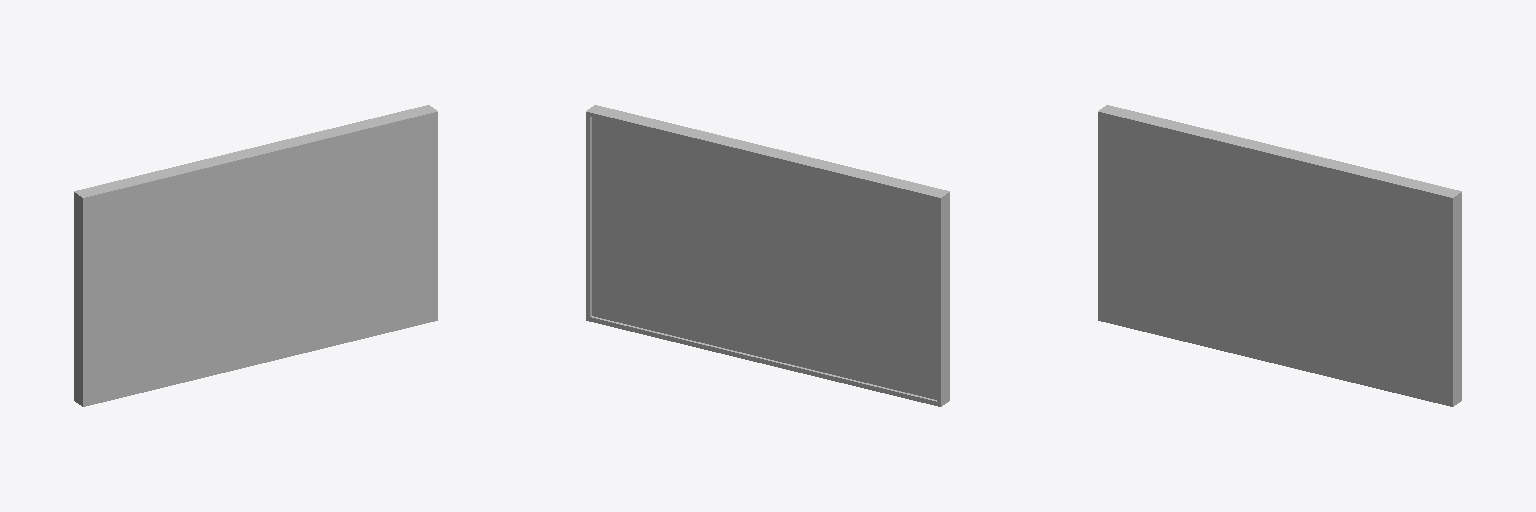
File: big screen.obj
3 views of the same model, side by side, from view 1: azimuth 30°, elevation 25°; view 2: azimuth 150°, elevation 25°; view 3: azimuth 330°, elevation 25° (orthographic).
Parts seen in each view (by area): view 1: televisionModern; view 2: televisionModern; view 3: televisionModern.
Part boxes in pixels (bbox=[...]): televisionModern: bbox=[74, 105, 437, 406]; televisionModern: bbox=[586, 105, 949, 406]; televisionModern: bbox=[1098, 105, 1461, 406].
Bounding box in the file's own units: 1.37 × 0.7704 × 0.0616.